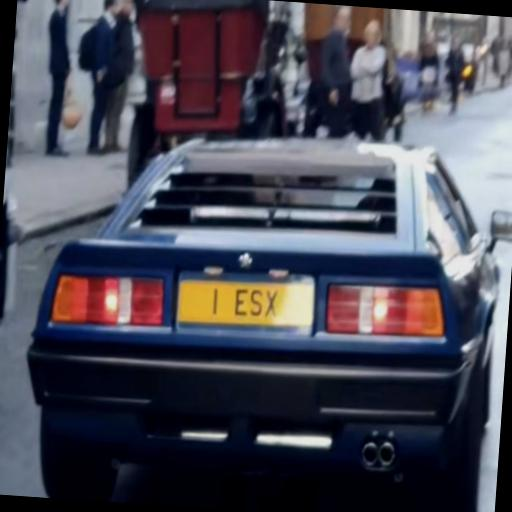numberplates: (178, 280, 314, 328)
